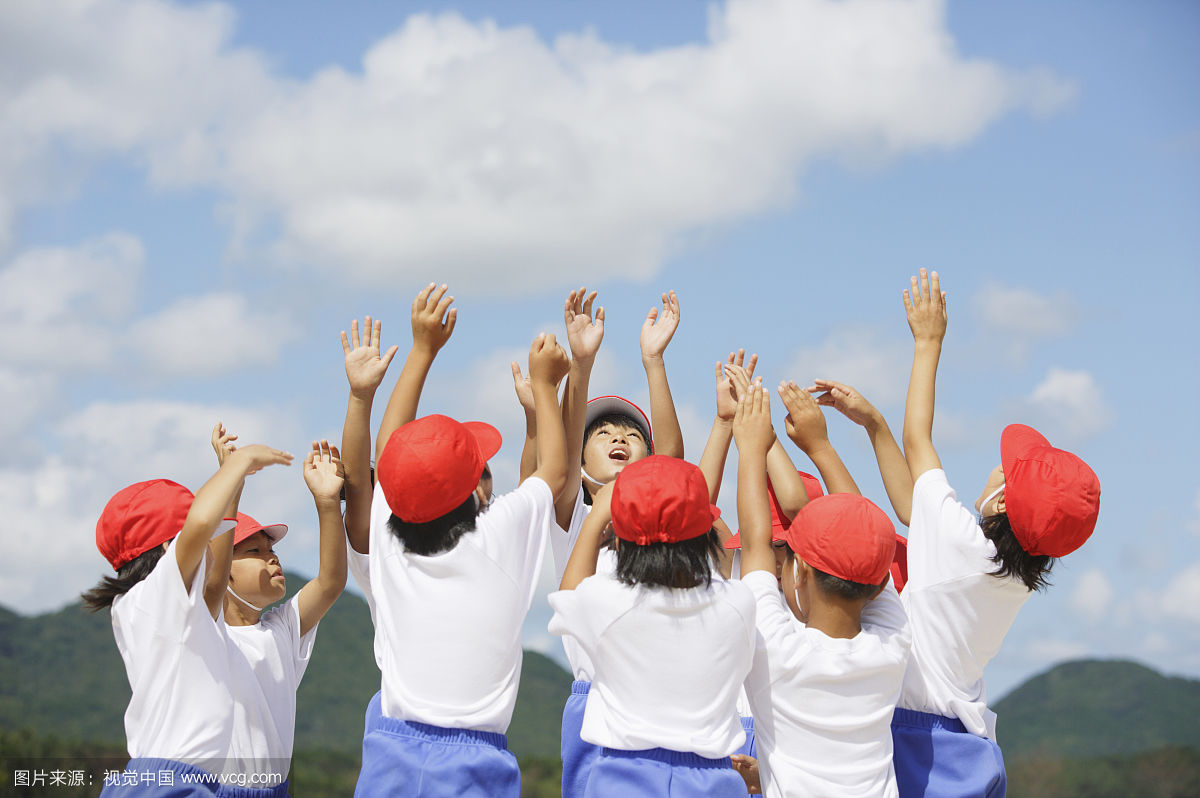handsup: (890, 256, 1118, 793), (359, 285, 575, 795), (85, 425, 291, 798), (733, 391, 912, 791)
